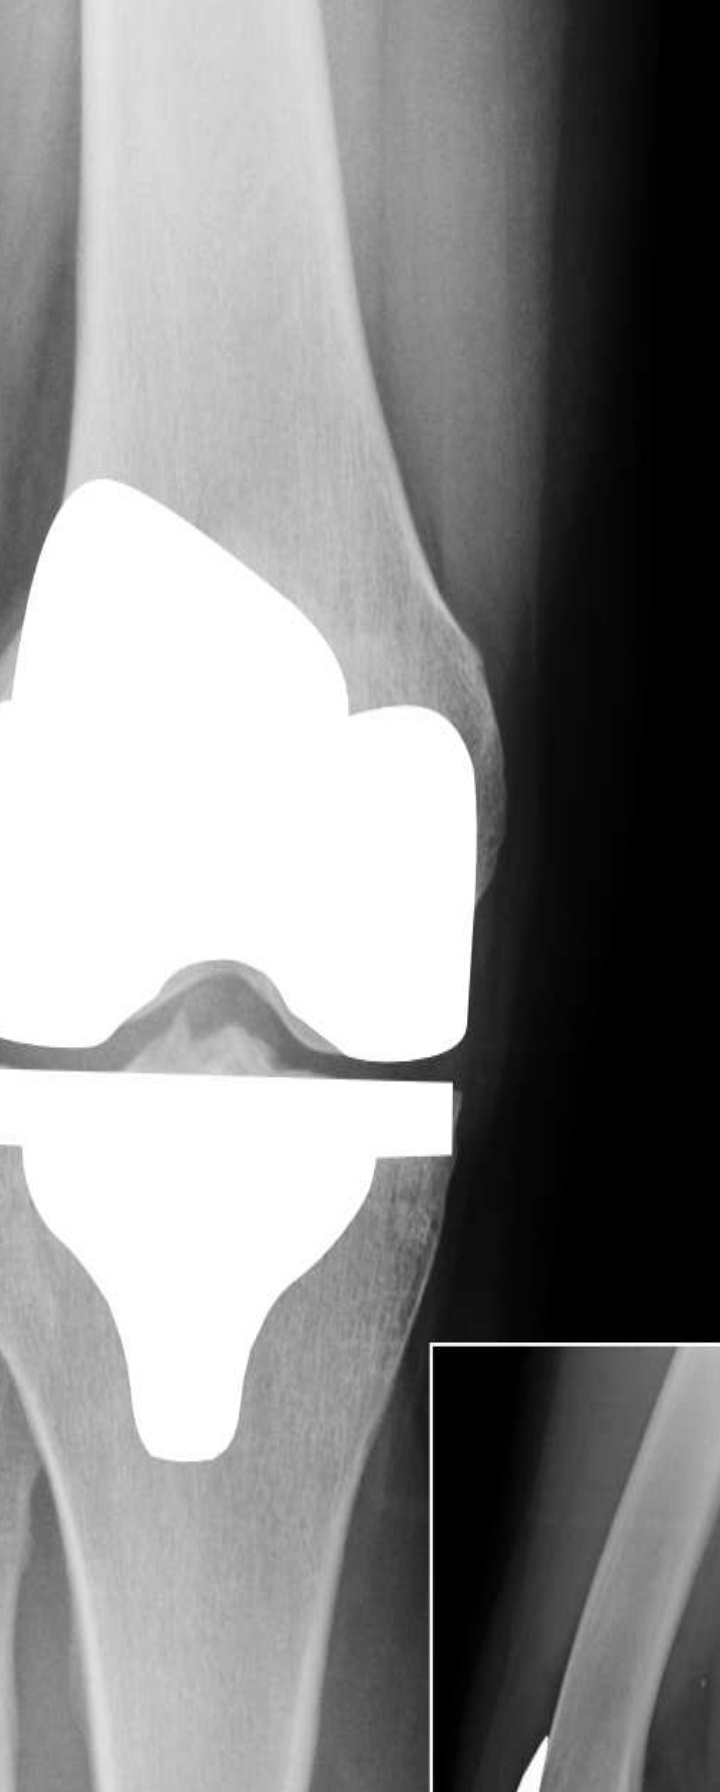Knee-Triathlon-Stryker: (1, 472, 568, 1466), (503, 1720, 585, 1785)
